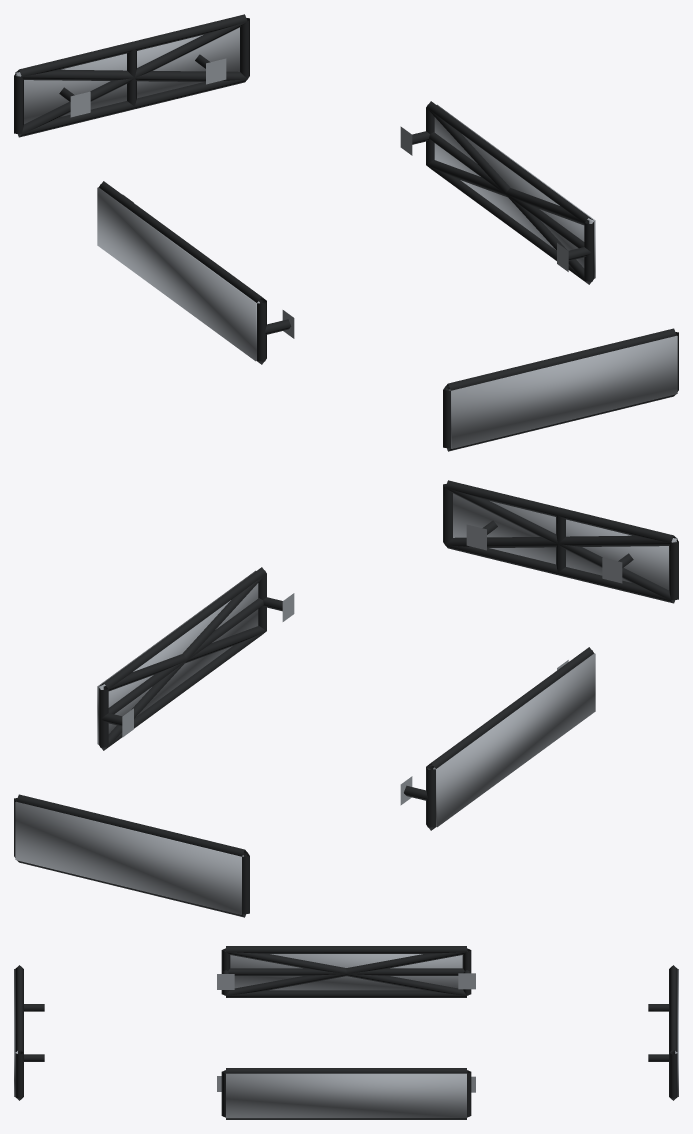
File: volnar_broto_protecao.glb
The picture shows the model from 3 angles, top to bottom: view 1: azimuth 30°, elevation 25°; view 2: azimuth 150°, elevation 25°; view 3: azimuth 270°, elevation 25°; orthographic projection. The views are drawn at different scales.
Parts seen in each view (by area): view 1: Protection_front_Level3_Details, Protection_left_Level3_Details, Protection_rear_Level1_Details, Protection_rear_Level3_Details, Protection_right_Level1_Details, Protection_rear_Level2_Details, Protection_right_Level2_Details, Protection_right_Level3_Details, Protection_front_Level1_Details, Protection_left_Level1_Details; view 2: Protection_rear_Level3_Details, Protection_left_Level3_Details, Protection_front_Level1_Details, Protection_front_Level3_Details, Protection_right_Level1_Details, Protection_front_Level2_Details, Protection_right_Level2_Details, Protection_right_Level3_Details, Protection_rear_Level1_Details, Protection_left_Level1_Details; view 3: Protection_right_Level3_Details, Protection_left_Level2_Details, Protection_left_Level1_Details, Protection_left_Level3_Details, Protection_right_Level1_Details, Protection_rear_Level1_Details, Protection_front_Level1_Details.
Part boxes in pixels (bbox=[...]): Protection_front_Level3_Details: bbox=[449, 335, 677, 448]; Protection_left_Level3_Details: bbox=[97, 187, 259, 361]; Protection_rear_Level1_Details: bbox=[14, 14, 249, 137]; Protection_rear_Level3_Details: bbox=[15, 27, 239, 124]; Protection_right_Level1_Details: bbox=[400, 101, 594, 284]; Protection_rear_Level2_Details: bbox=[16, 21, 247, 136]; Protection_right_Level2_Details: bbox=[426, 107, 592, 284]; Protection_right_Level3_Details: bbox=[434, 104, 595, 278]; Protection_front_Level1_Details: bbox=[443, 328, 678, 451]; Protection_left_Level1_Details: bbox=[99, 181, 294, 364]; Protection_rear_Level3_Details: bbox=[15, 801, 243, 914]; Protection_left_Level3_Details: bbox=[433, 653, 595, 827]; Protection_front_Level1_Details: bbox=[443, 480, 678, 603]; Protection_front_Level3_Details: bbox=[453, 493, 677, 590]; Protection_right_Level1_Details: bbox=[98, 567, 294, 750]; Protection_front_Level2_Details: bbox=[445, 487, 676, 602]; Protection_right_Level2_Details: bbox=[100, 573, 266, 750]; Protection_right_Level3_Details: bbox=[97, 570, 258, 744]; Protection_rear_Level1_Details: bbox=[14, 794, 249, 917]; Protection_left_Level1_Details: bbox=[400, 647, 593, 830]; Protection_right_Level3_Details: bbox=[226, 1073, 466, 1118]; Protection_left_Level2_Details: bbox=[225, 949, 467, 995]; Protection_left_Level1_Details: bbox=[217, 946, 475, 997]; Protection_left_Level3_Details: bbox=[230, 954, 462, 990]; Protection_right_Level1_Details: bbox=[217, 1068, 475, 1119]; Protection_rear_Level1_Details: bbox=[648, 965, 677, 1100]; Protection_front_Level1_Details: bbox=[15, 965, 44, 1100].
Size of the model in its own units: 1.85 by 0.354 by 4.11.
Materials: 1 (1 with a texture image).
